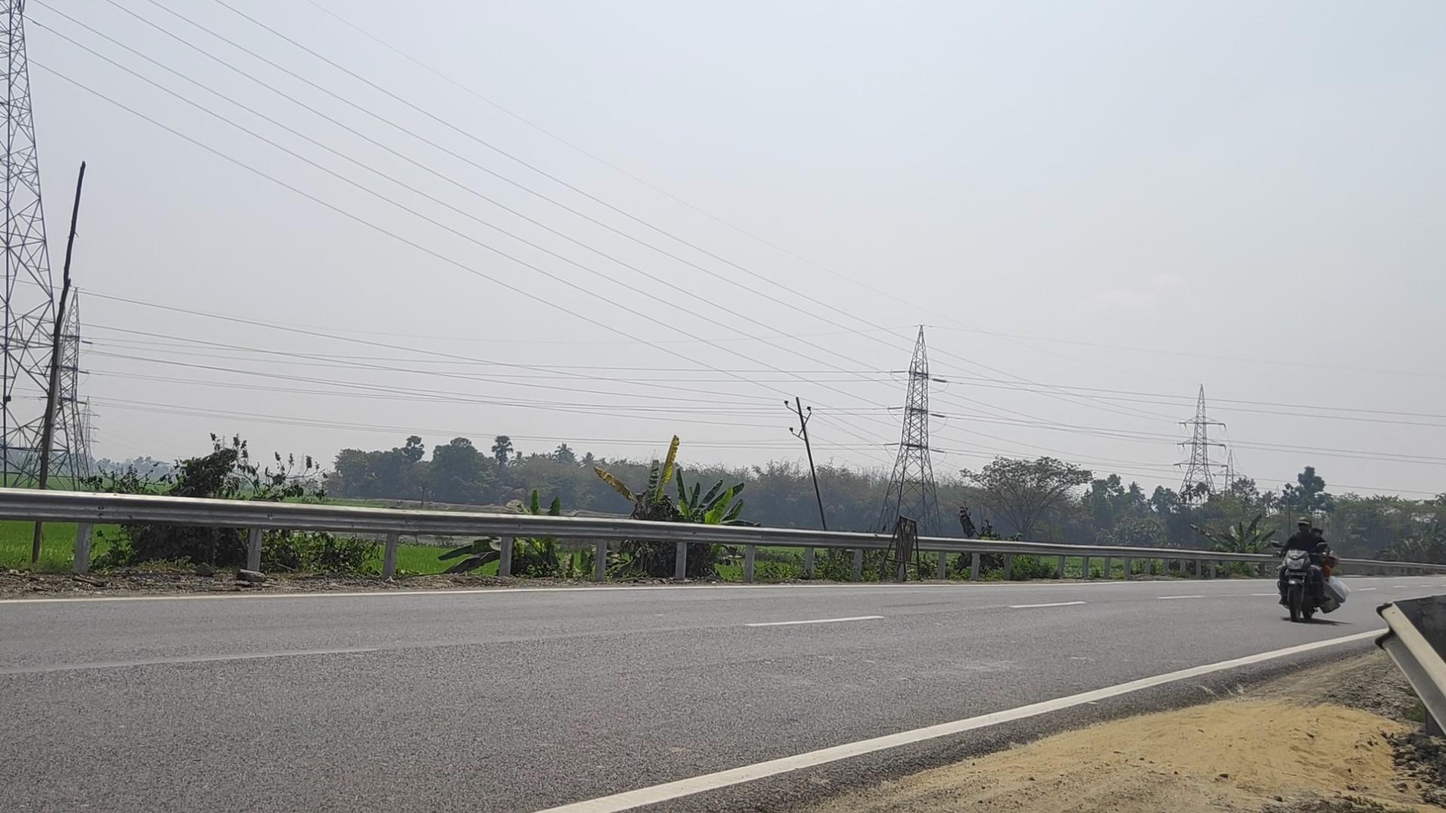bike: (1271, 516, 1350, 623)
